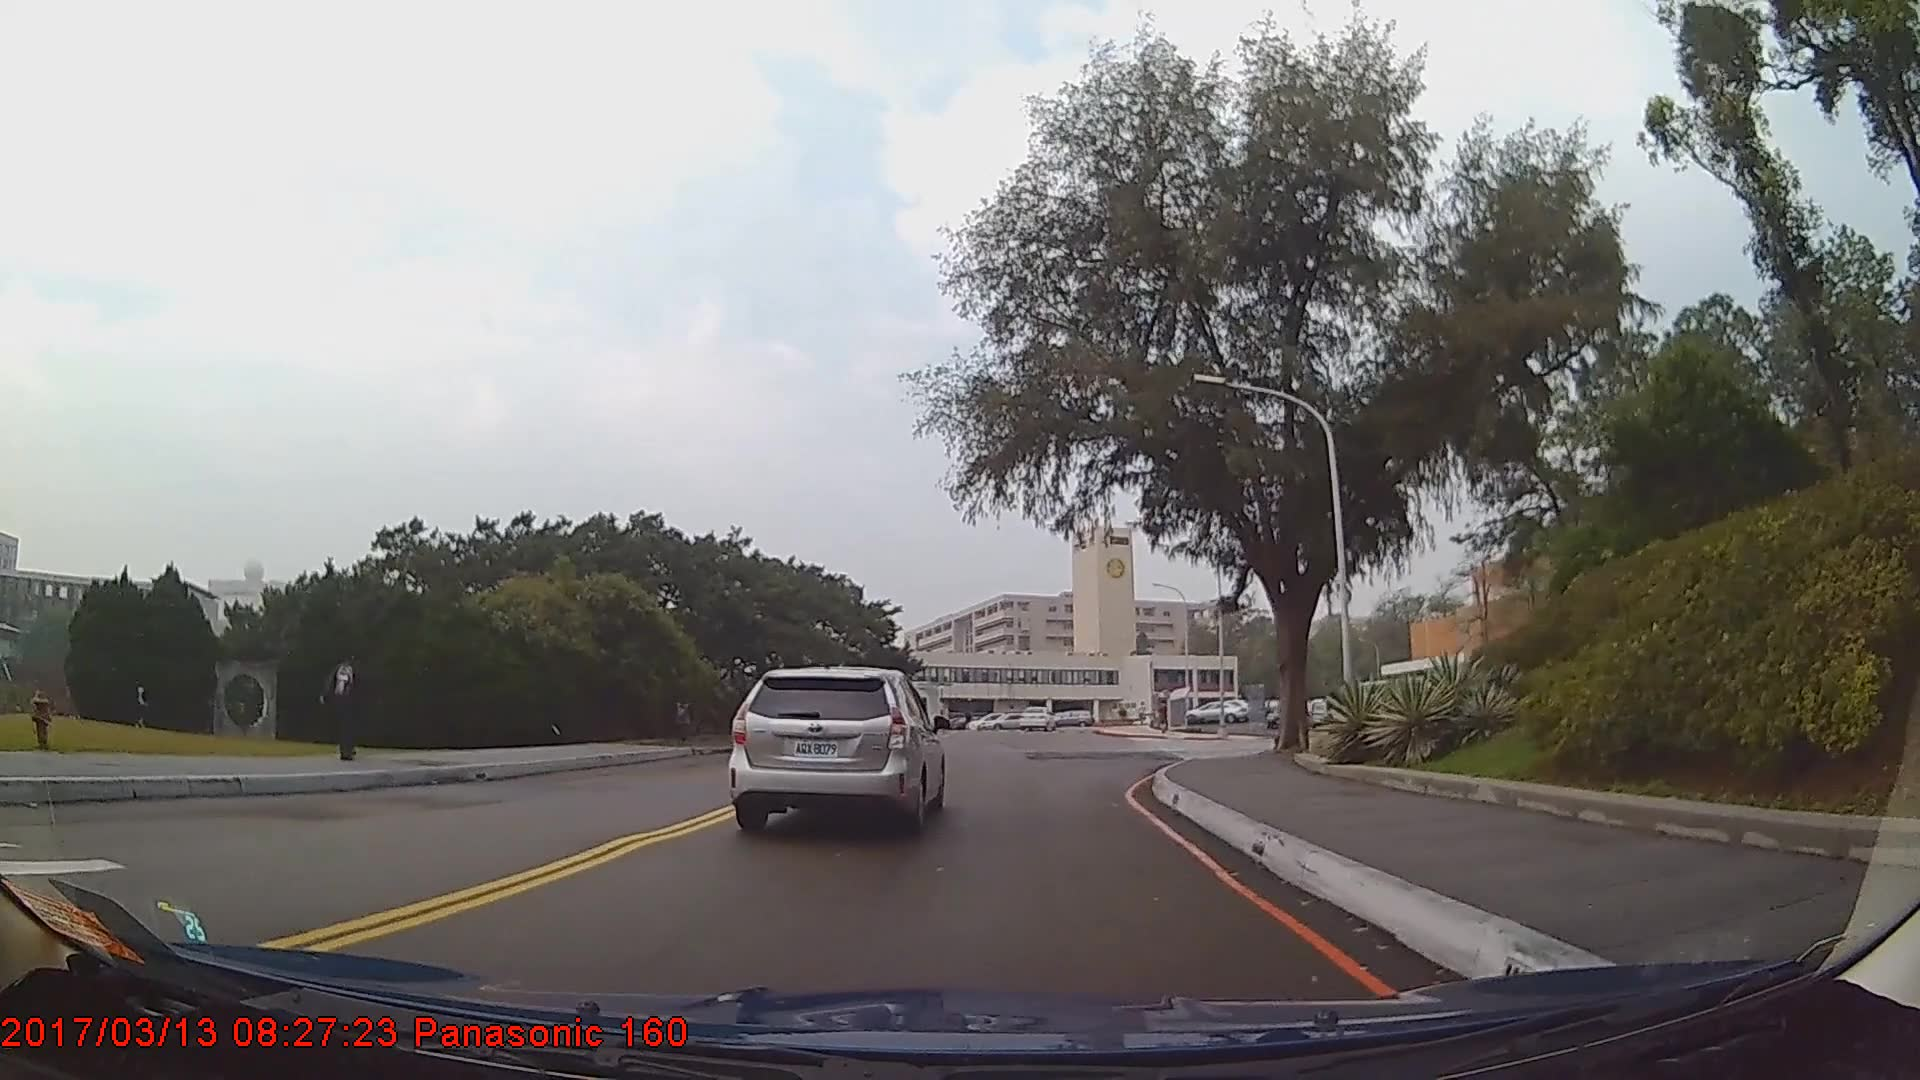pedestrian: (319, 645, 370, 760)
vehicle: (728, 664, 945, 836), (977, 709, 1031, 734), (1184, 700, 1244, 723), (1016, 704, 1058, 731), (1306, 700, 1334, 727)
